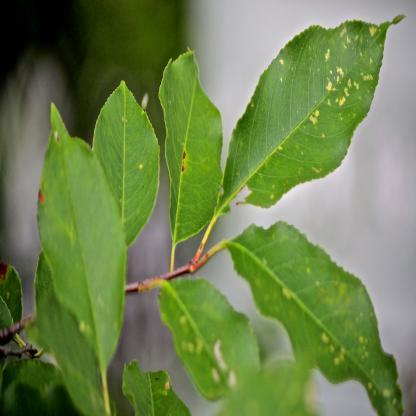Cherry leaf: (213, 13, 408, 232), (224, 215, 408, 416), (29, 95, 134, 402), (148, 271, 262, 406), (88, 69, 166, 266), (156, 32, 224, 254)
